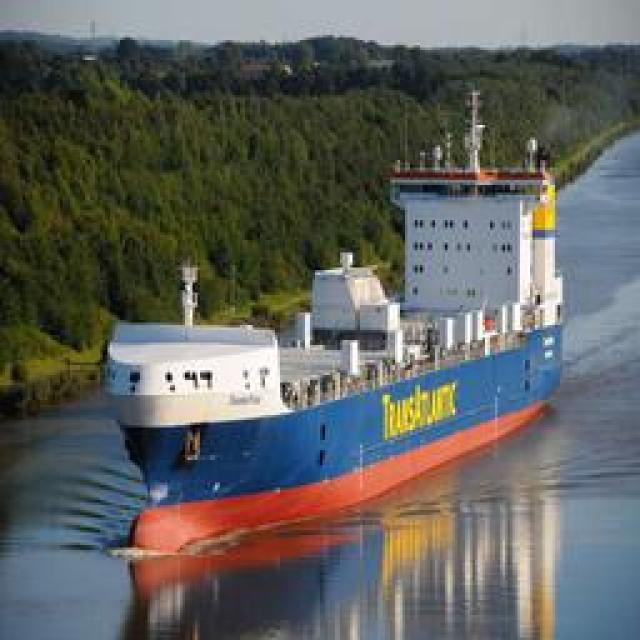CIV_Ship: (110, 115, 572, 595)
